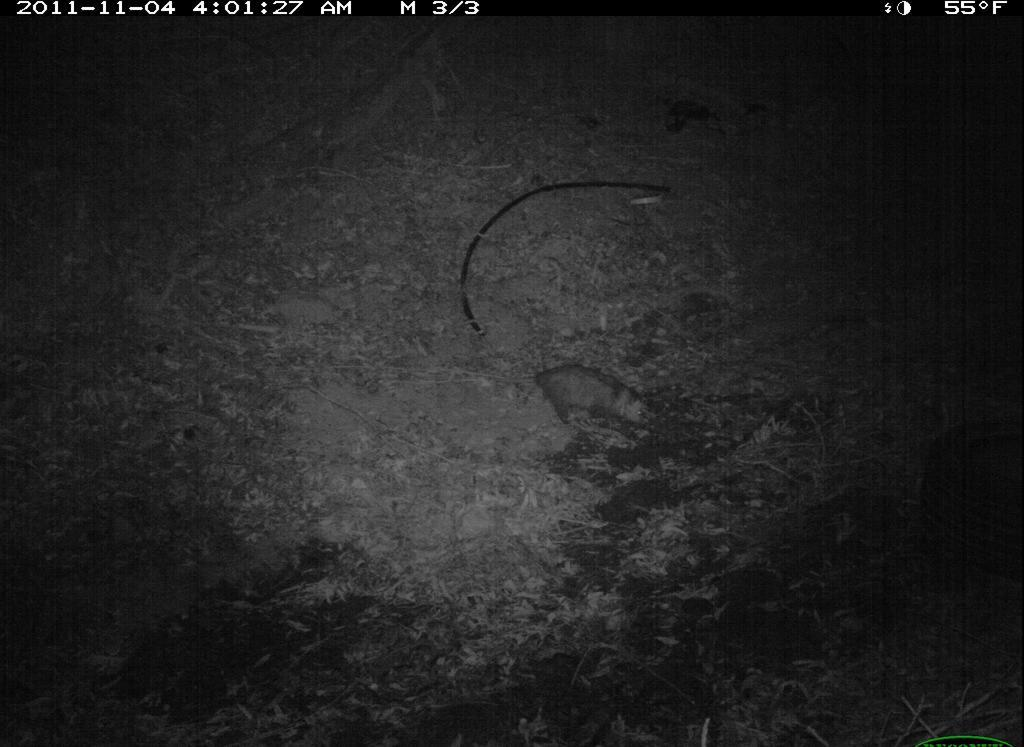opossum: (445, 351, 658, 443)
